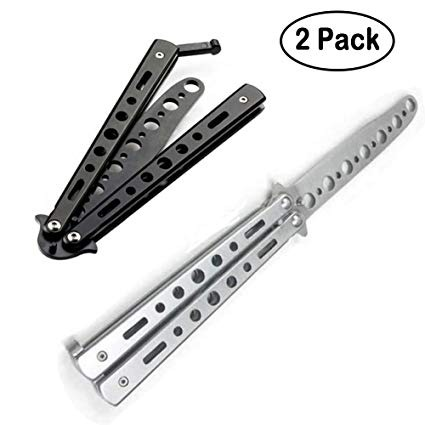knife: (65, 85, 424, 406), (34, 36, 264, 256)
